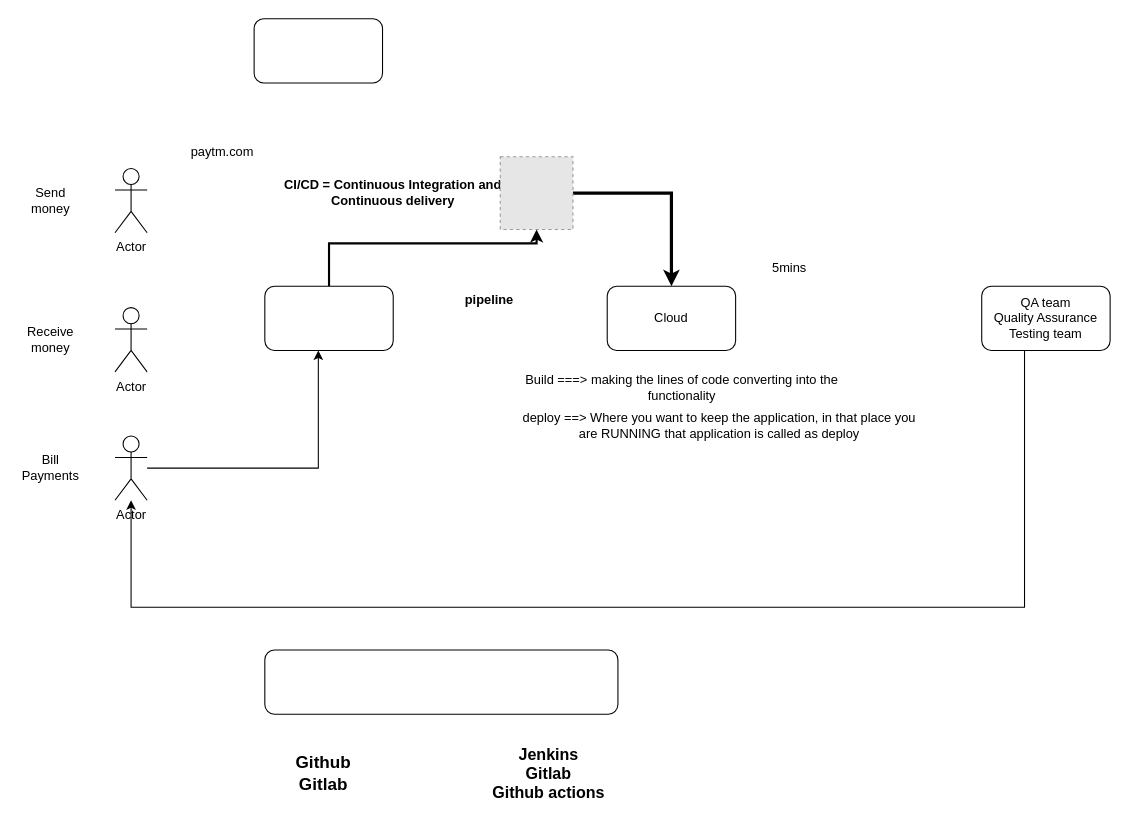
This 1129x829 diagram has some shape labels left out. Grey dashed boxes stand in for pictures. Here are the shapes that lost their labels. From the top down, the centre of each, then its label:
At pixel 318 50: "Paytm".
At pixel 328 317: "Source code management tool".
At pixel 441 681: "Version Control System = Source code management + CI/CD".
